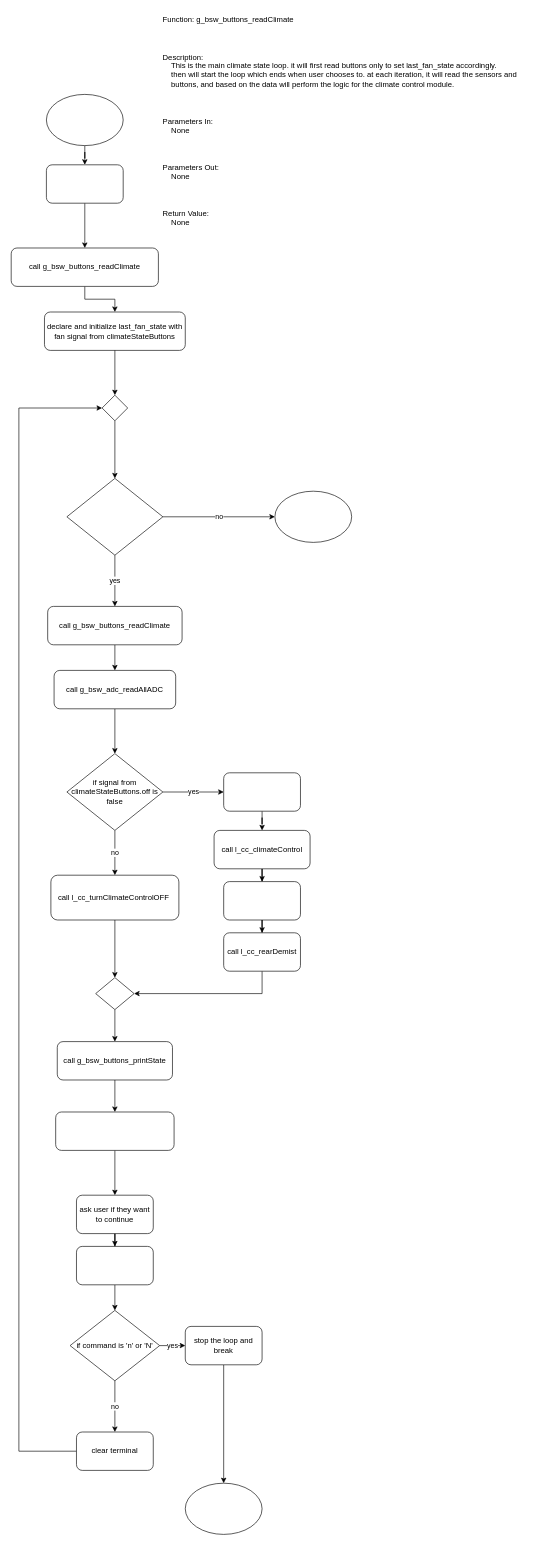
This 538x1546 diagram has some shape labels left out. The centre of each missing label's shape, as x and y in pixels:
"call g_bsw_pwm_setAllPWM" belongs at point (114, 1130).
"call g_cc_run" belongs at point (84, 183).
"call l_cc_frontDemist" belongs at point (261, 900).
"call l_cc_runAC given last_fan_state" belongs at point (261, 791).
"read command" belongs at point (114, 1265).
"While true" belongs at point (114, 516).
